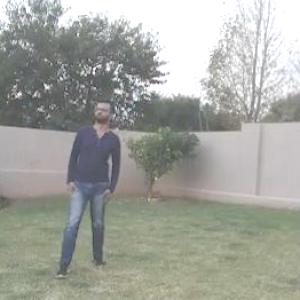follow: (59, 87, 125, 277)
